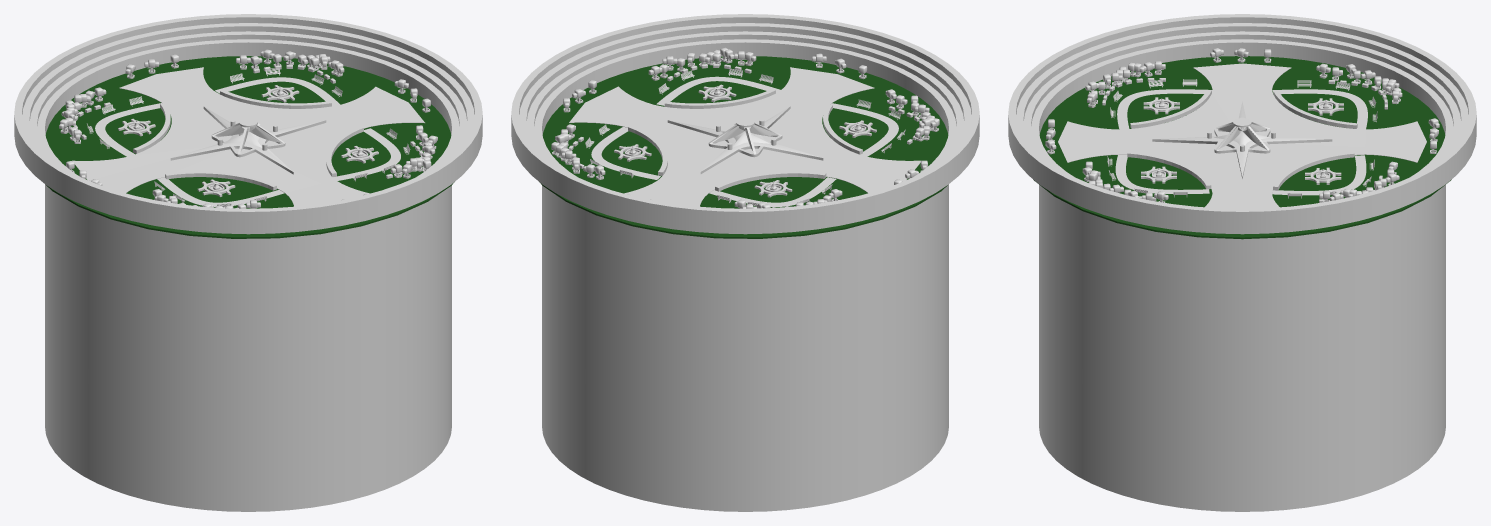
Rendered from Arena111.fbx.
3 renders of one model, left to right at view 1: azimuth 30°, elevation 25°; view 2: azimuth 150°, elevation 25°; view 3: azimuth 270°, elevation 25°, orthographic.
Parts seen in each view (by area): view 1: Stadium, BaseGrass, Path, Trees, Garden Path, Stage, Border Bush, Fountains, Benches; view 2: Stadium, BaseGrass, Path, Trees, Garden Path, Stage, Border Bush, Fountains, Benches; view 3: Stadium, BaseGrass, Path, Trees, Garden Path, Stage, Border Bush, Fountains, Benches.
Boxes of the visible parts, x1,y1,x2,y2 form: Stadium: [14, 14, 482, 511]; BaseGrass: [45, 56, 454, 238]; Path: [72, 67, 424, 206]; Trees: [59, 49, 437, 208]; Garden Path: [95, 77, 400, 206]; Stage: [170, 106, 326, 174]; Border Bush: [133, 89, 363, 190]; Fountains: [118, 85, 378, 196]; Benches: [86, 68, 410, 206]; Stadium: [511, 14, 979, 511]; BaseGrass: [539, 56, 948, 238]; Path: [569, 67, 920, 206]; Trees: [551, 47, 939, 208]; Garden Path: [591, 76, 898, 206]; Stage: [667, 106, 823, 173]; Border Bush: [628, 88, 862, 191]; Fountains: [614, 84, 876, 197]; Benches: [585, 68, 905, 205]; Stadium: [1008, 14, 1476, 511]; BaseGrass: [1033, 56, 1451, 239]; Path: [1058, 63, 1426, 208]; Trees: [1045, 48, 1439, 202]; Garden Path: [1115, 89, 1367, 195]; Stage: [1152, 101, 1332, 178]; Border Bush: [1127, 89, 1357, 190]; Fountains: [1141, 97, 1343, 184]; Benches: [1107, 79, 1377, 198].
Bounding box in the file's own units: 13396 × 9874 × 13396.
